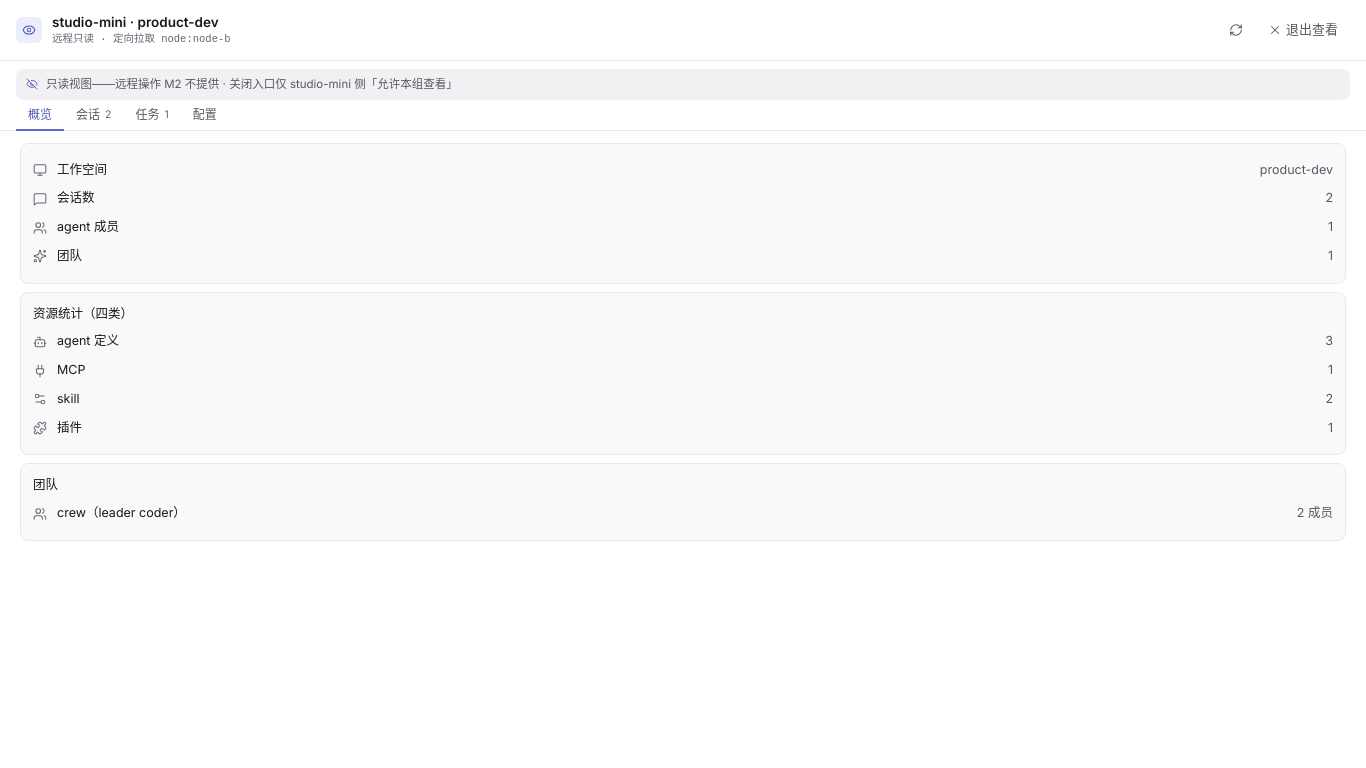
Test case: 回放视图与订阅生命周期（notes §4 断言点 3/4） › S4「加载更早」pill 带 seq 范围（当前窗口前一页区间）
Click the tab "会话 2" at (94, 115), box [64,100,123,131]
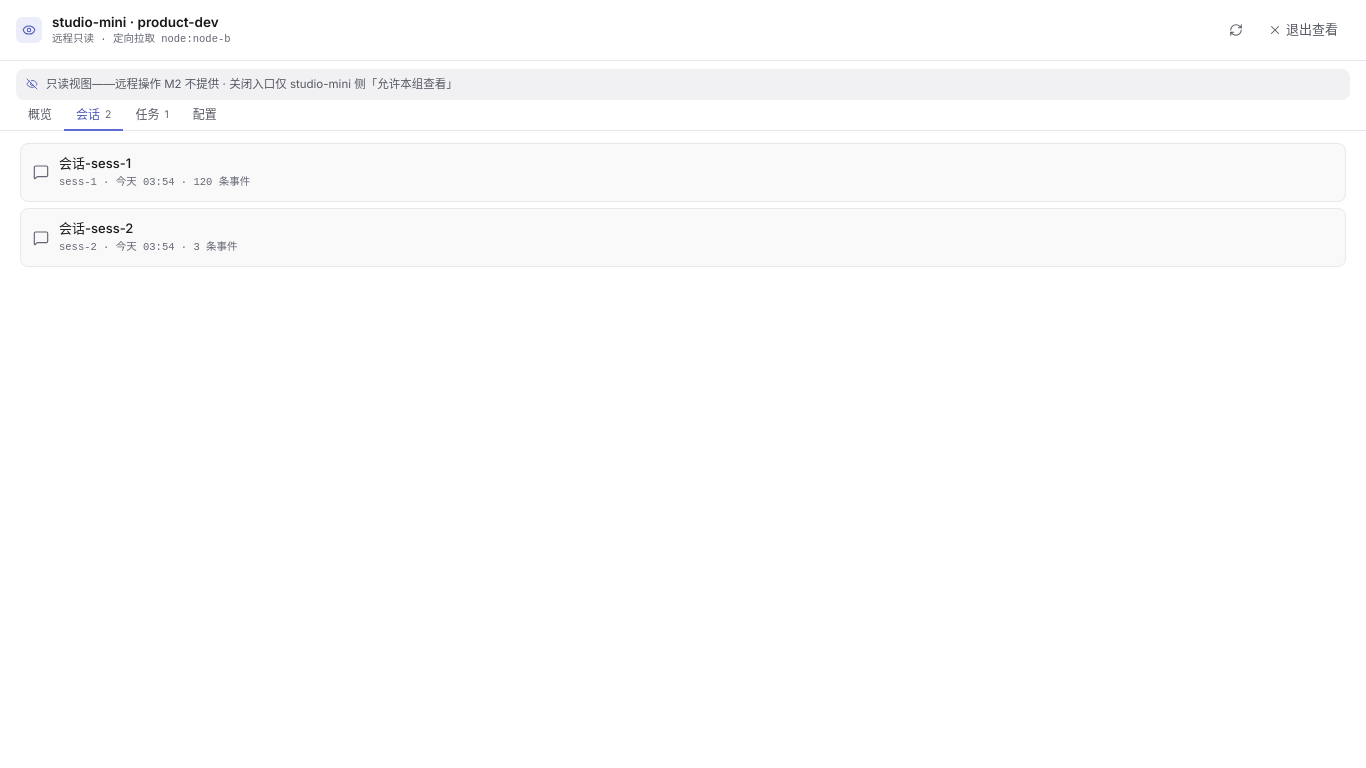
Click the button with aria-label "回放会话 会话-sess-1" at (95, 163), box [20,143,1346,202]
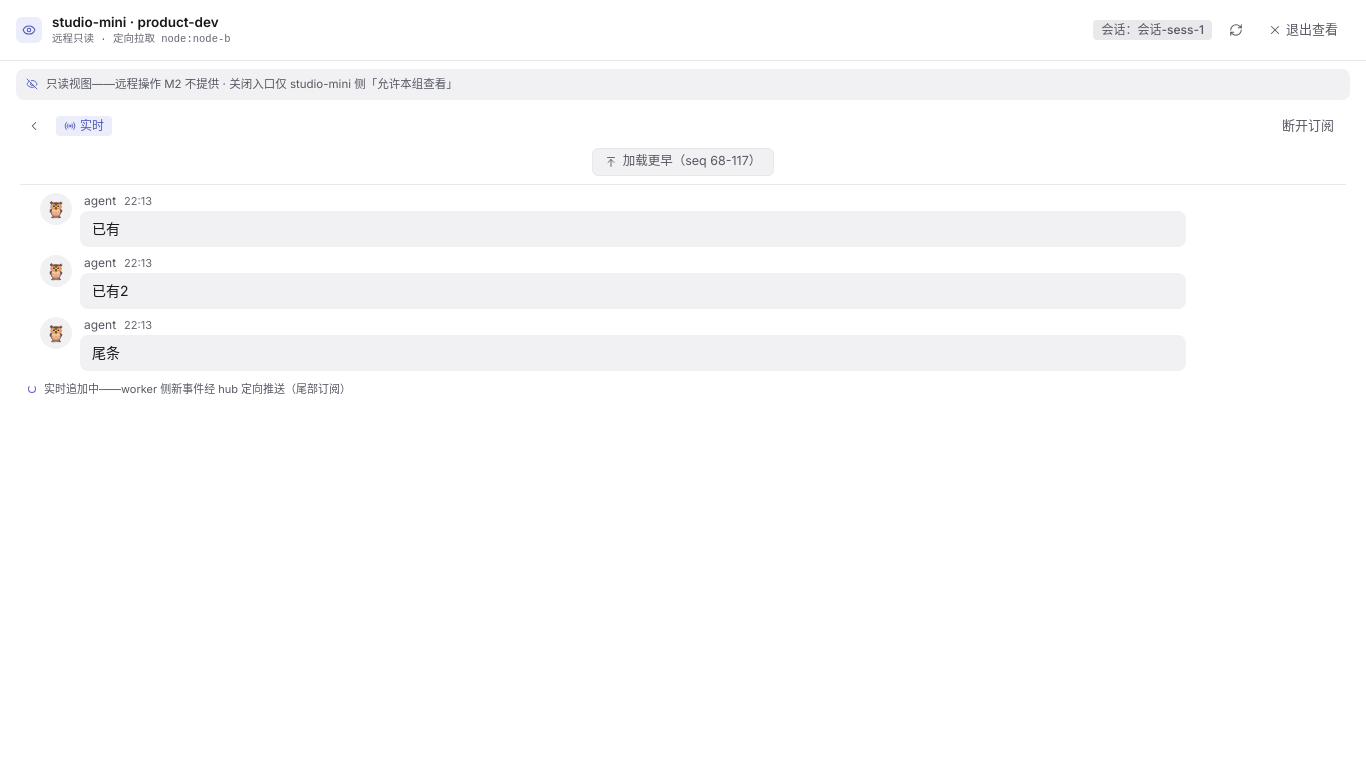
Check: the text "尾条" is shown, box [92,344,120,361]
Check: the button "加载更早（seq 68-117）" is shown, box [592,148,774,176]
